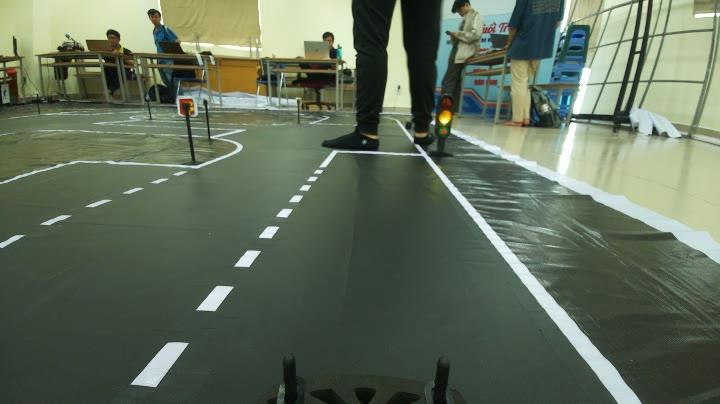trafficlight: (428, 90, 461, 169)
